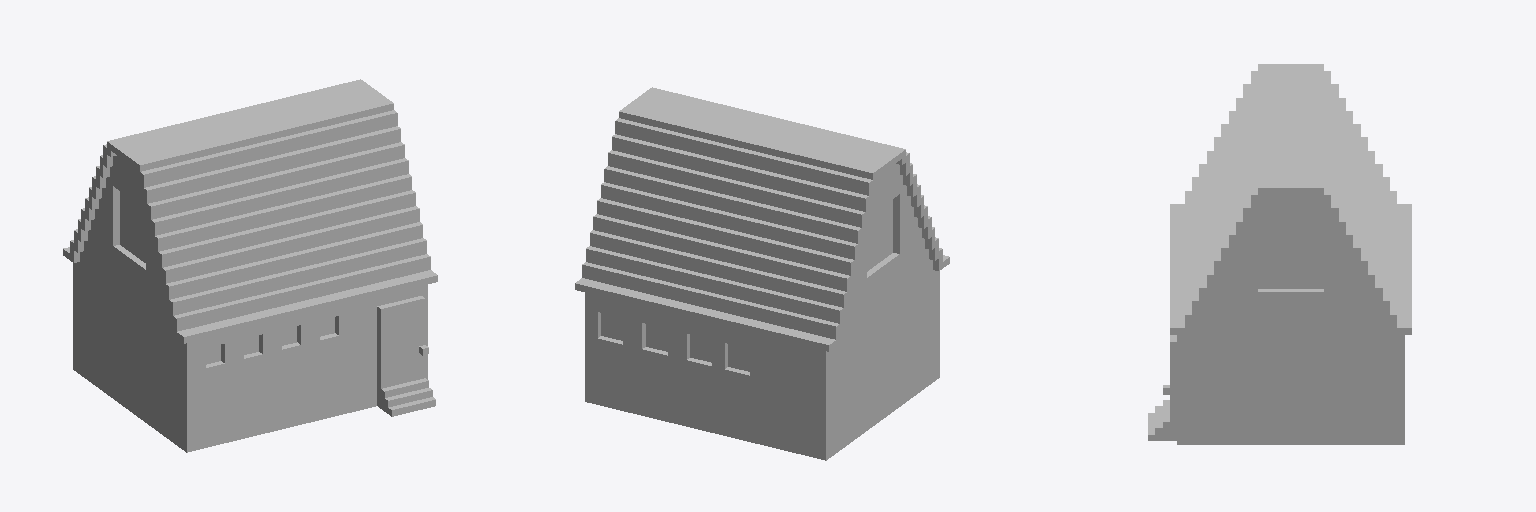
File: home0.obj
The picture shows the model from 3 angles: view 1: azimuth 30°, elevation 25°; view 2: azimuth 150°, elevation 25°; view 3: azimuth 270°, elevation 25°; orthographic projection.
Visible parts, largest first — view 1: object 1; view 2: object 1; view 3: object 1.
Boxes of the visible parts, box(x1,y1,x2,y2) form: object 1: box(63, 79, 437, 452); object 1: box(575, 87, 949, 460); object 1: box(1148, 64, 1411, 444).
Size of the model in its own units: 4 by 3.9 by 3.6.